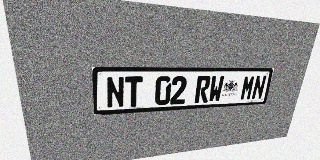0: (154, 76, 172, 106)
2: (170, 76, 187, 105)
M: (240, 75, 256, 100)
N: (106, 76, 124, 108), (251, 75, 267, 100)
R: (194, 76, 211, 103)
T: (125, 76, 143, 107)
W: (208, 76, 225, 102)
